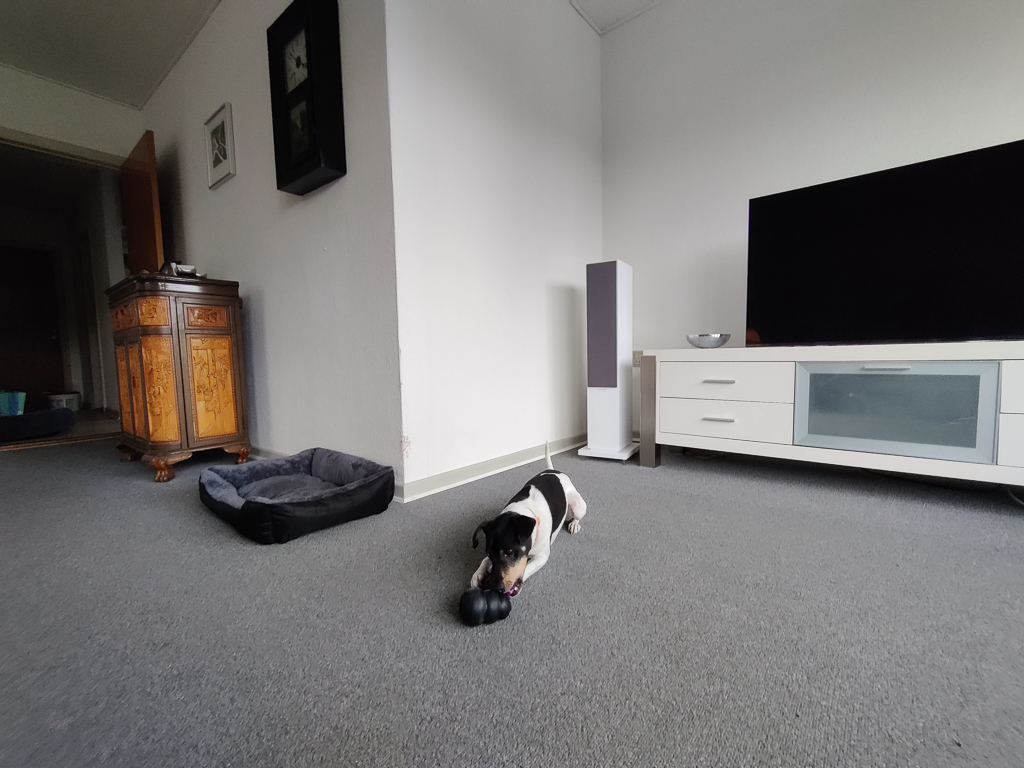Dog: (449, 433, 605, 605)
